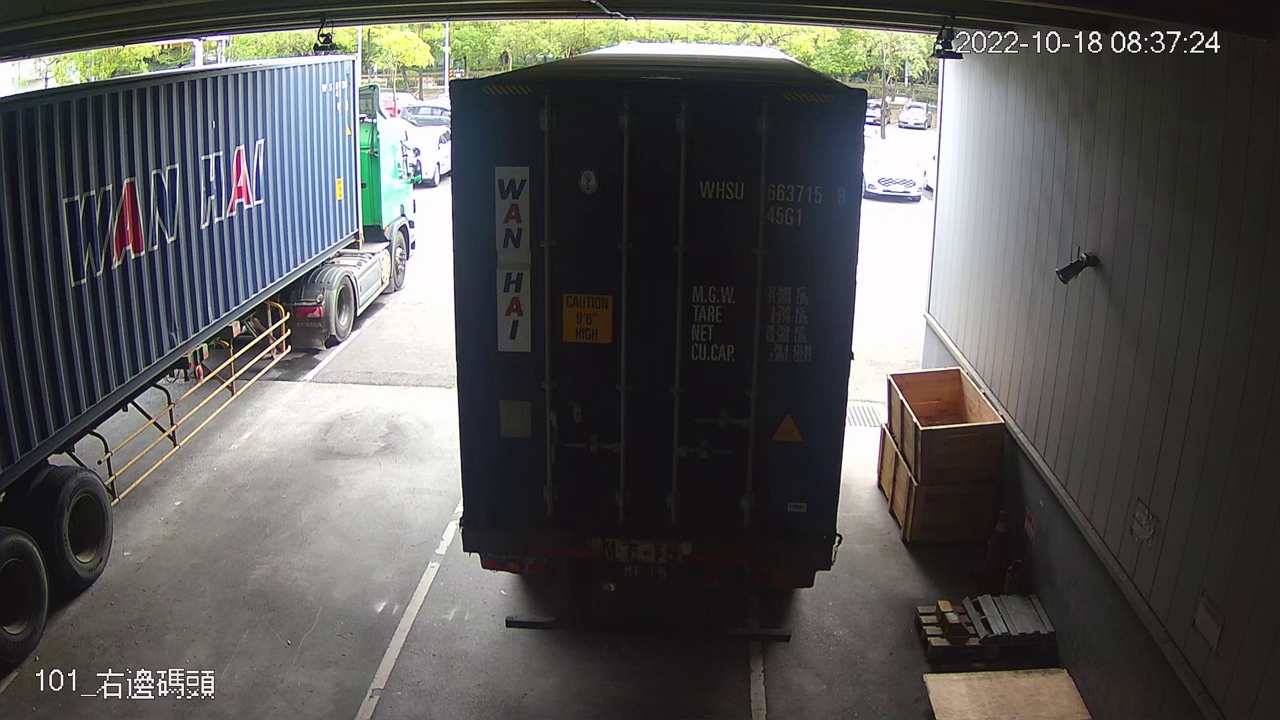container: (693, 172, 854, 232)
